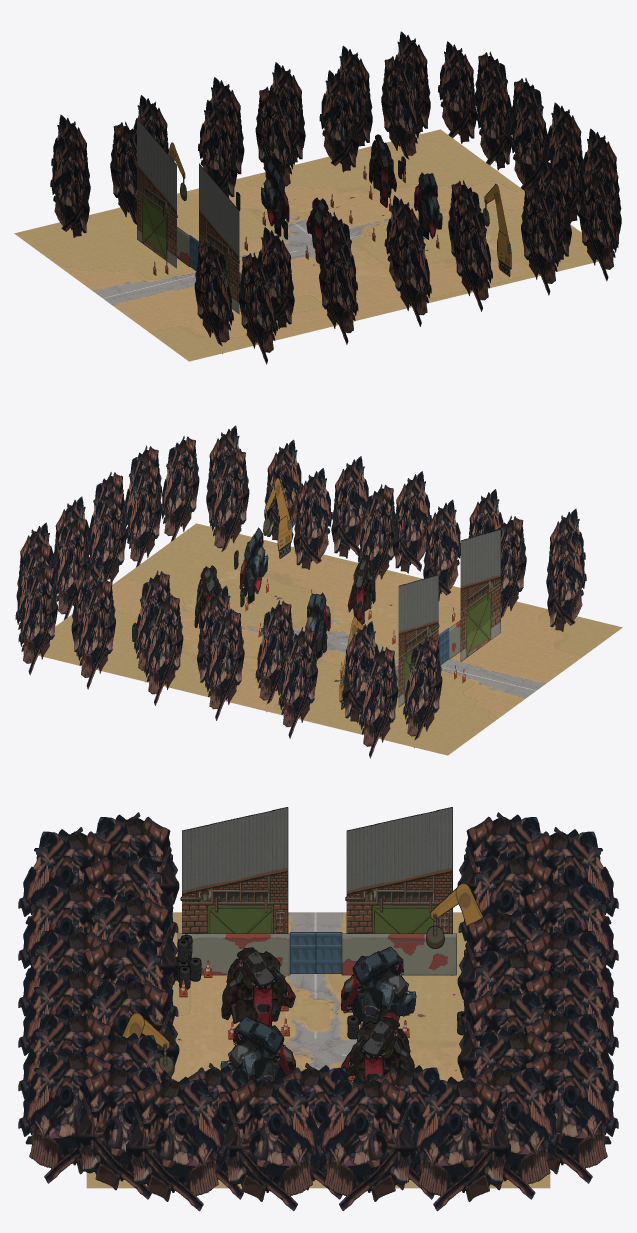
File: map2_v01.fbx
3 renders of one model, top to bottom at view 1: azimuth 30°, elevation 25°; view 2: azimuth 150°, elevation 25°; view 3: azimuth 270°, elevation 25°, orthographic. The views are drawn at different scales.
Visible parts, largest first — view 1: map2; view 2: map2; view 3: map2.
Part boxes in pixels (left/top/right/bottom): map2: left=14, top=31, right=621, bottom=364; map2: left=15, top=425, right=622, bottom=758; map2: left=18, top=807, right=618, bottom=1211.
Size of the model in its own units: 1392 by 414 by 1242.
